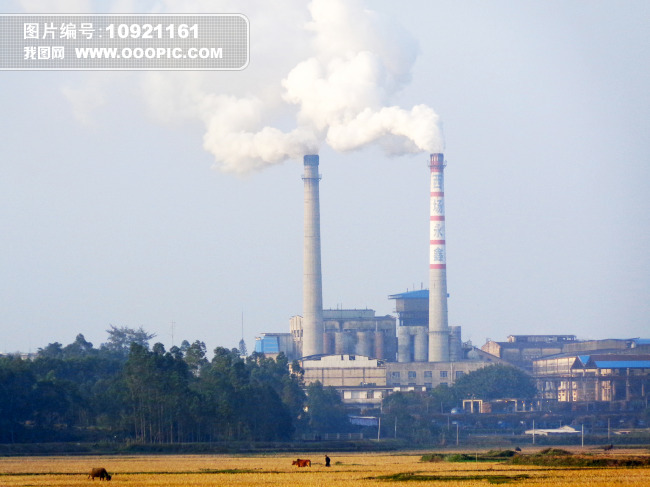dust: (285, 18, 478, 160), (197, 92, 329, 167)
